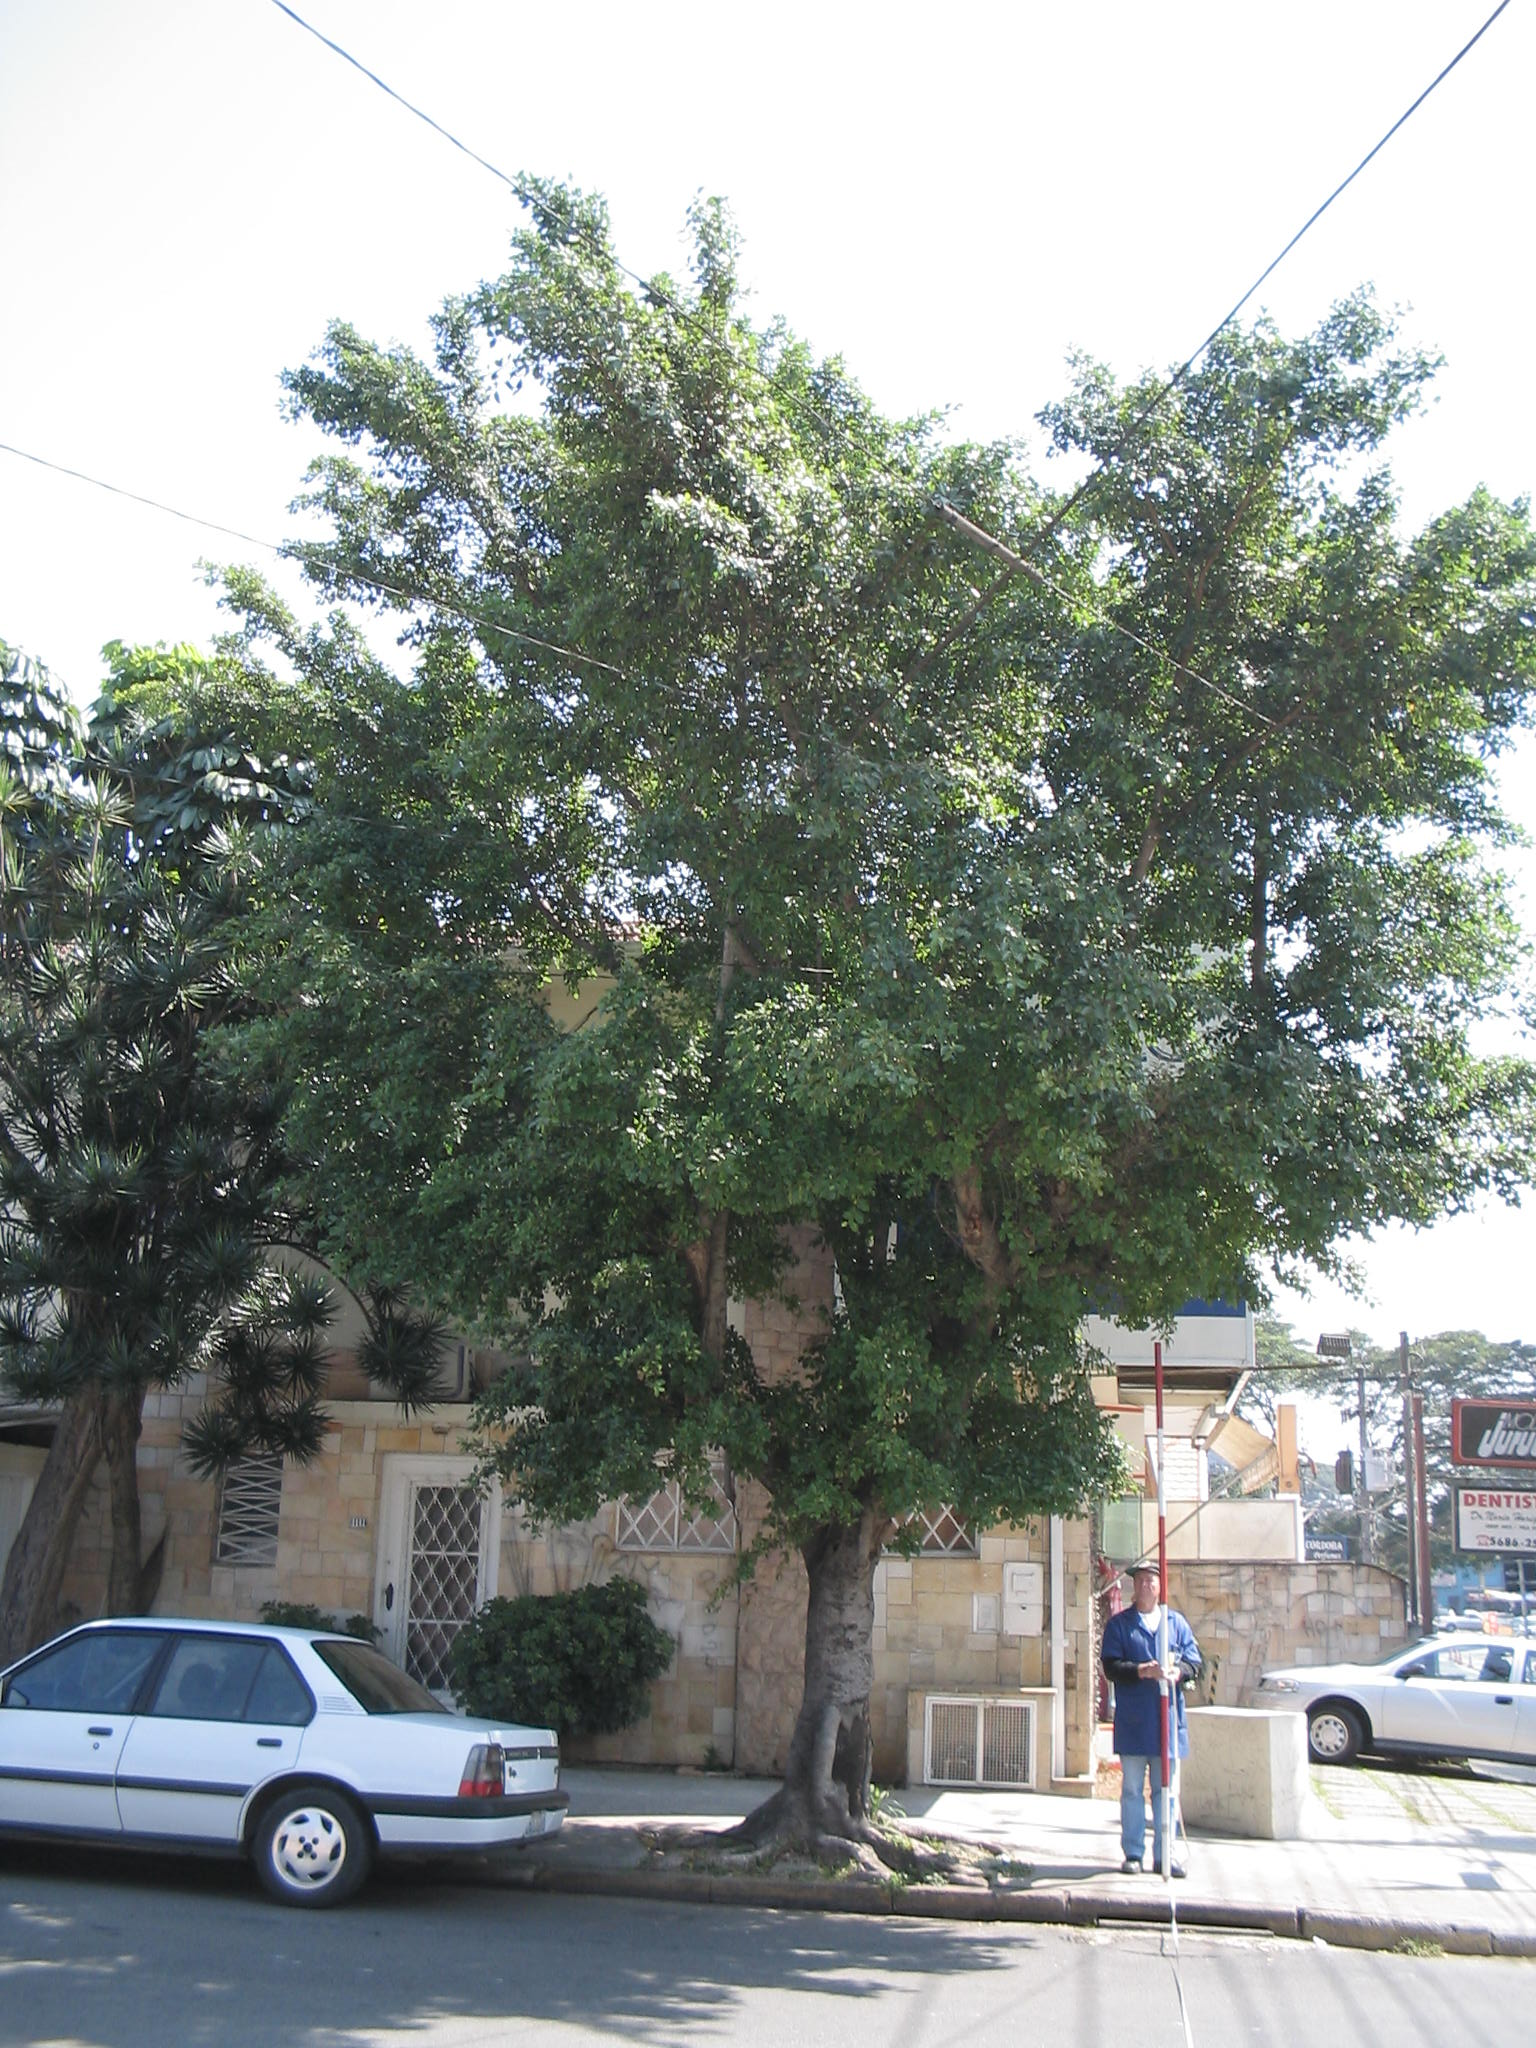crown: (127, 192, 1523, 1545)
stem: (716, 1553, 962, 1861)
stick: (1117, 1342, 1202, 1877)
tree: (119, 184, 1525, 1866)
